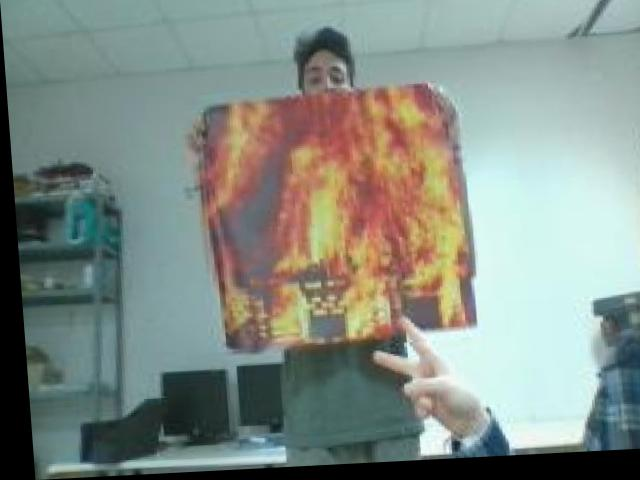fire-poster: (198, 86, 473, 353)
